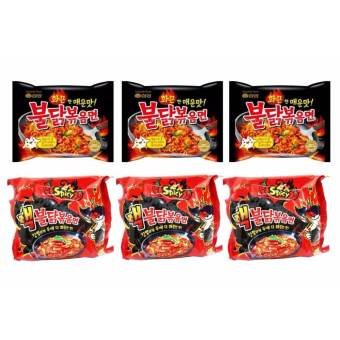Snack: (9, 77, 118, 166)
